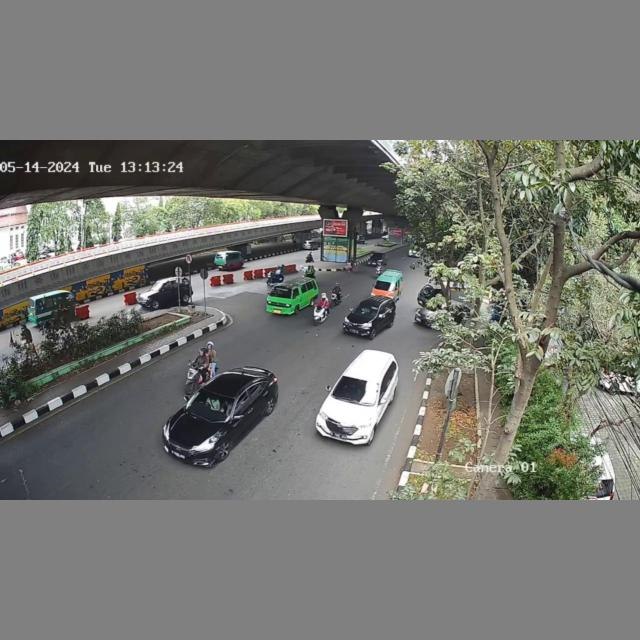windshield: (190, 388, 236, 423), (334, 374, 376, 404)
